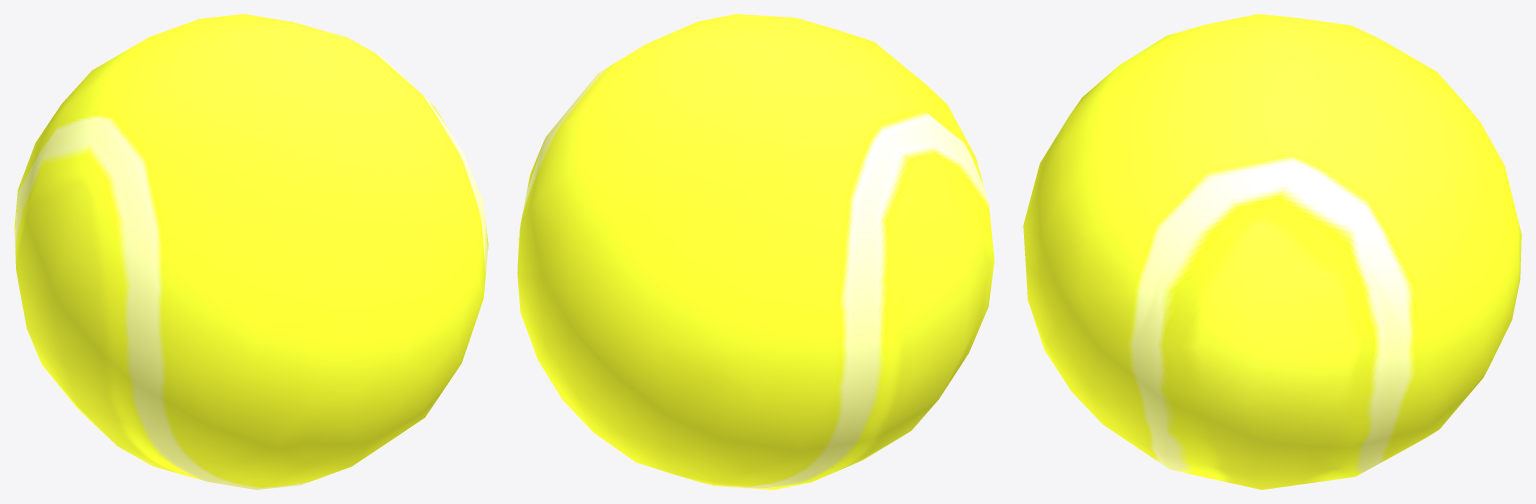
Rendered from green_tennisball.glb.
3 views of the same model, side by side, from view 1: azimuth 30°, elevation 25°; view 2: azimuth 150°, elevation 25°; view 3: azimuth 270°, elevation 25° (orthographic).
Parts seen in each view (by area): view 1: Green_TennisBall; view 2: Green_TennisBall; view 3: Green_TennisBall.
Part boxes in pixels (<box>): Green_TennisBall: <box>14,14,488,489</box>; Green_TennisBall: <box>517,14,994,489</box>; Green_TennisBall: <box>1023,14,1521,489</box>.
Size of the model in its own units: 0.3647 by 0.3649 by 0.3804.
Materials: 1 (1 with a texture image).
